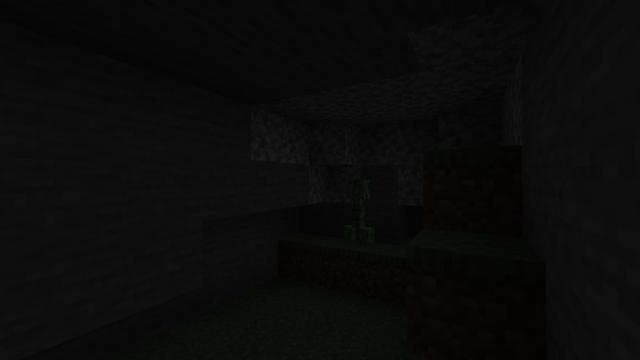creepers: (345, 176, 372, 243)
